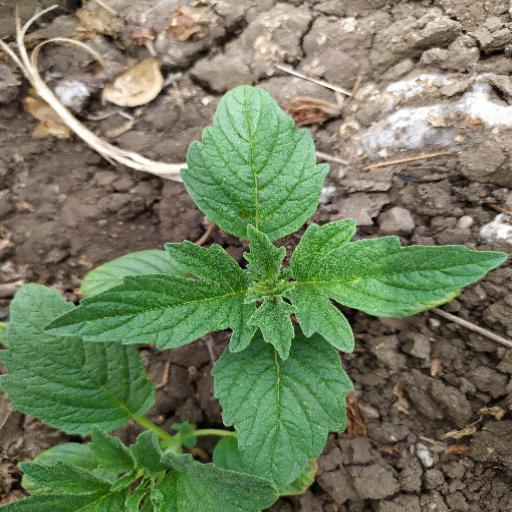crop: (56, 91, 506, 490), (2, 264, 281, 512)
